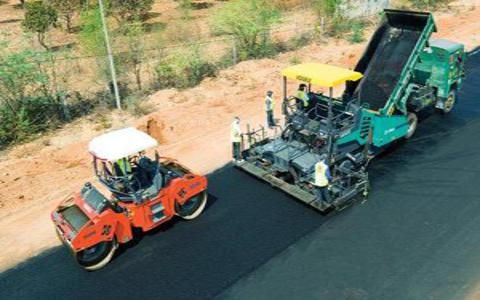Proper road: (162, 232, 355, 300)
